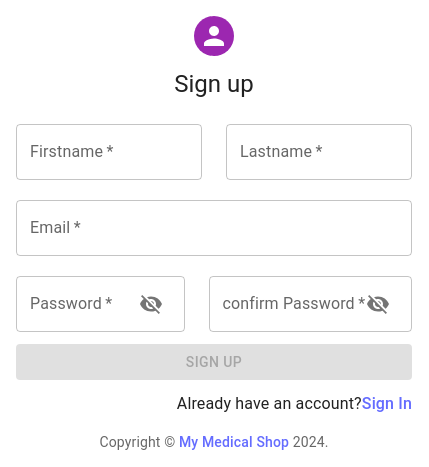
it: Register › Confirm Password visibility for Confirm password
This screenshot has width=429, height=467.
Click the button with test id "sign-up-show-confirm-password" at (378, 304), box [358, 284, 398, 324]
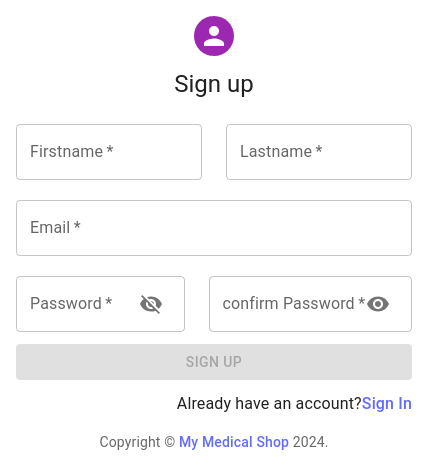
Result: the icon with test id "VisibilityIcon" is shown at [366, 292, 390, 316]
